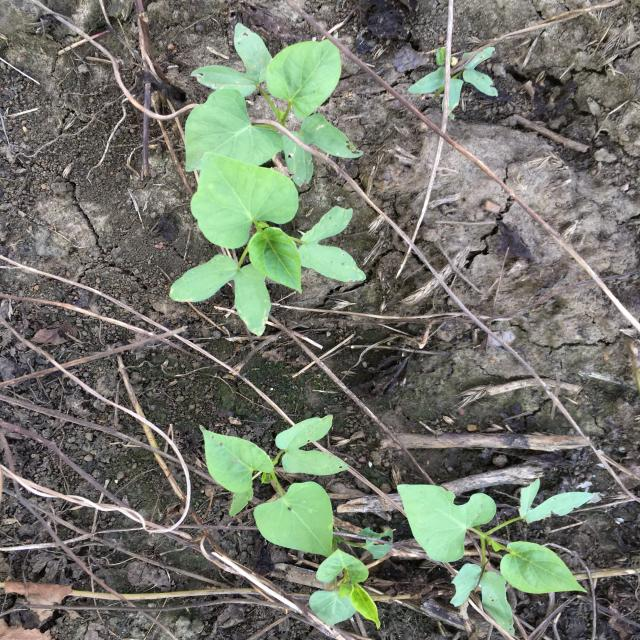MorningGlory: (199, 414, 393, 629), (168, 152, 367, 337), (396, 478, 594, 636), (184, 22, 364, 189), (407, 46, 499, 120)
